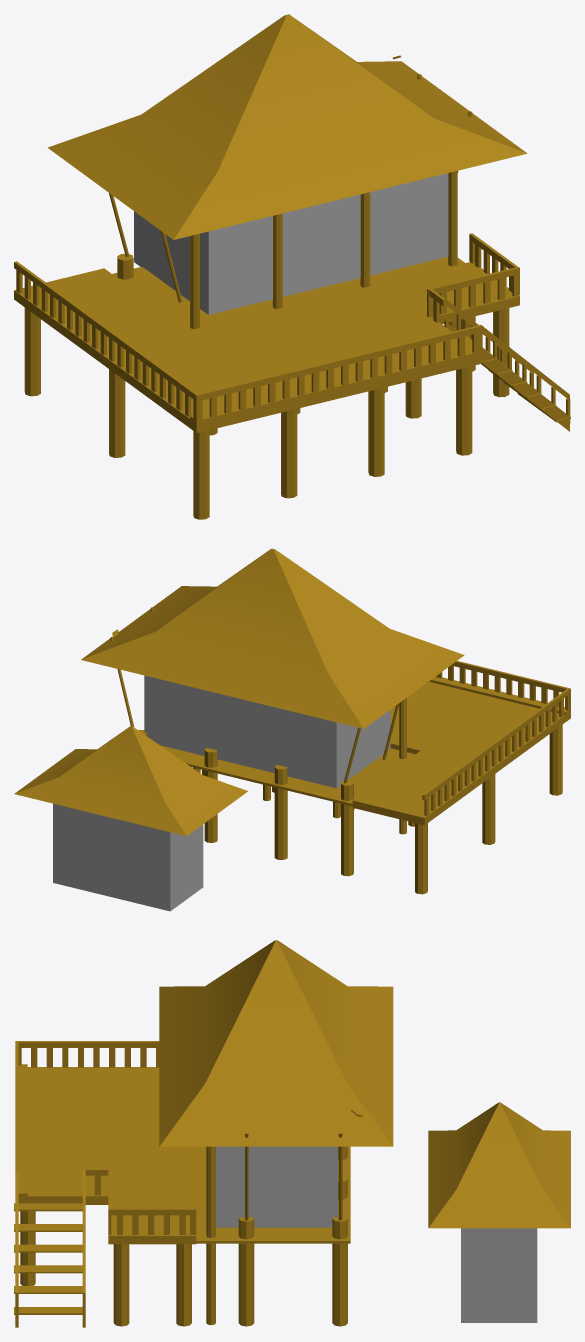
File: Japanese.fbx
The picture shows the model from 3 angles, top to bottom: view 1: azimuth 30°, elevation 25°; view 2: azimuth 150°, elevation 25°; view 3: azimuth 270°, elevation 25°; orthographic projection. The views are drawn at different scales.
Parts seen in each view (by area): view 1: pCube2059; view 2: pCube2059; view 3: pCube2059.
Part boxes in pixels (x1,y1,x2,y2): pCube2059: (14,14,570,519); pCube2059: (14,548,570,911); pCube2059: (14,940,570,1327).
Size of the model in its own units: 14.01 by 11.42 by 17.84.
